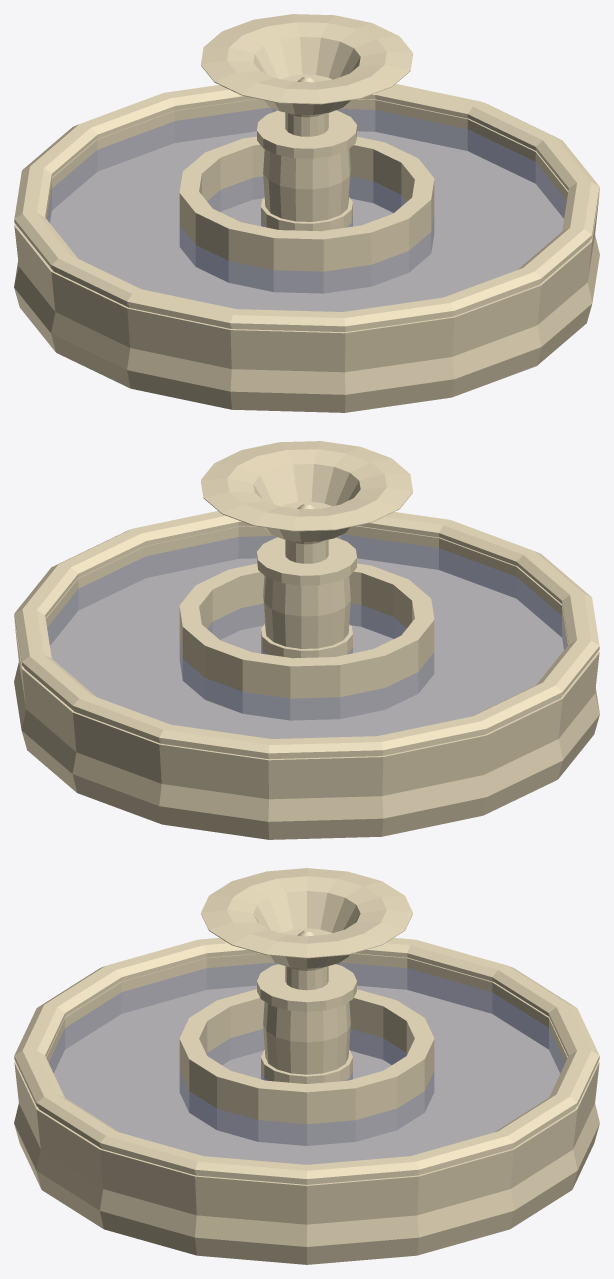
The model's file is fountain.glb.
The picture shows the model from 3 angles, top to bottom: view 1: azimuth 30°, elevation 25°; view 2: azimuth 150°, elevation 25°; view 3: azimuth 270°, elevation 25°; orthographic projection.
Parts seen in each view (by area): view 1: acqua; view 2: acqua; view 3: acqua.
Part boxes in pixels (x1,y1,x2,y2): acqua: [14, 14, 599, 412]; acqua: [14, 441, 599, 839]; acqua: [14, 868, 599, 1264].
Bounding box in the file's own units: 401 × 176 × 401.
Materials: 2 (1 with a texture image).
